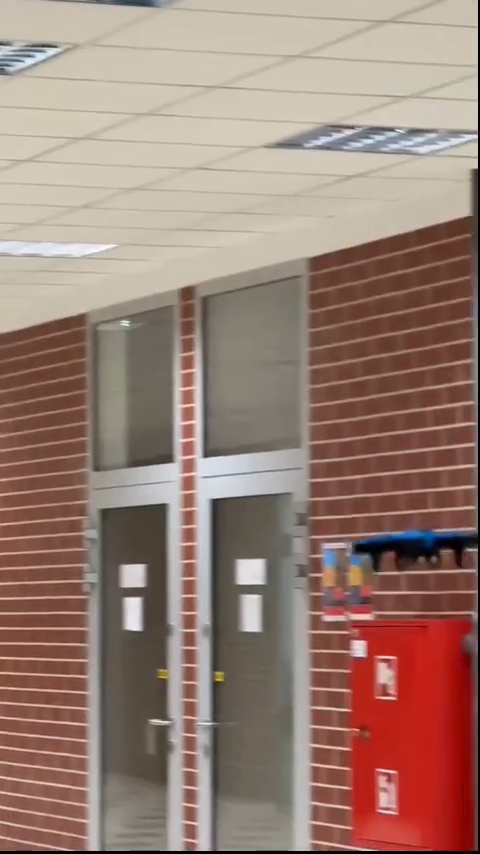drone: (353, 534, 479, 567)
